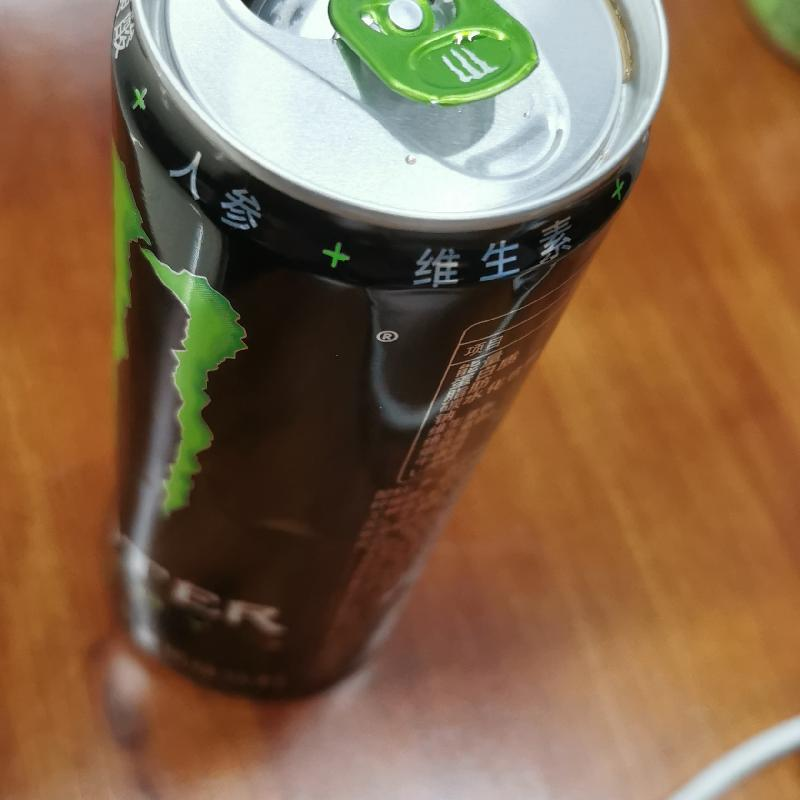cans: (121, 1, 701, 238)
